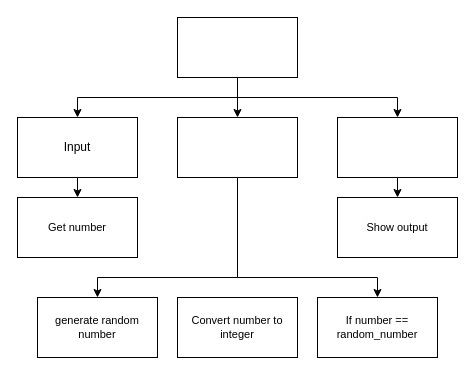
This 475x375 diagram has some shape labels left out. The box of each missing label's shape, as (x1, y1, x2, y2) in pixels:
Number guessing game: (176, 16, 298, 78)
Output: (336, 116, 458, 178)
Process: (176, 116, 298, 178)
